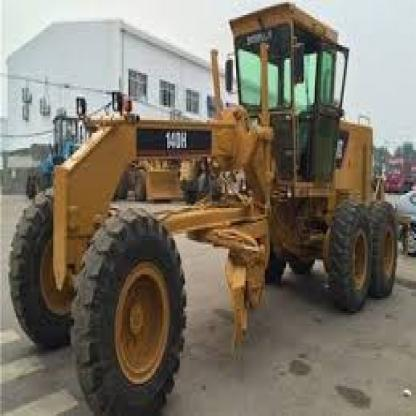bull_dozer/loader/grader: (11, 0, 403, 412)
